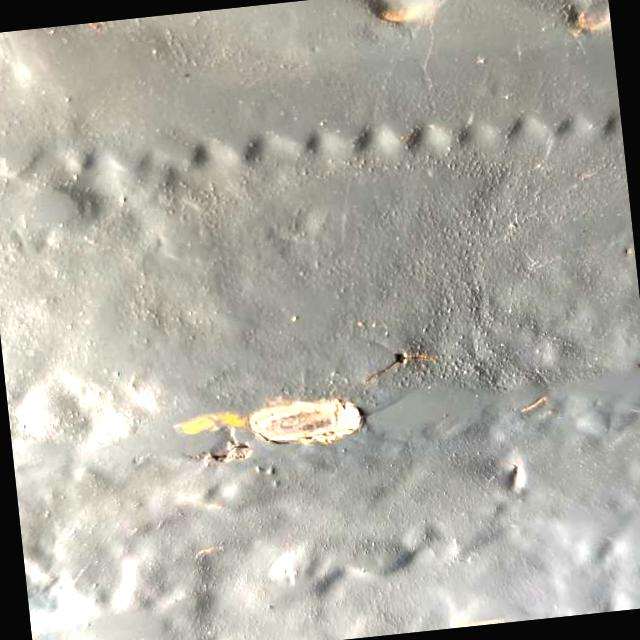crack: (352, 336, 444, 392)
paint-off: (161, 381, 377, 491)
